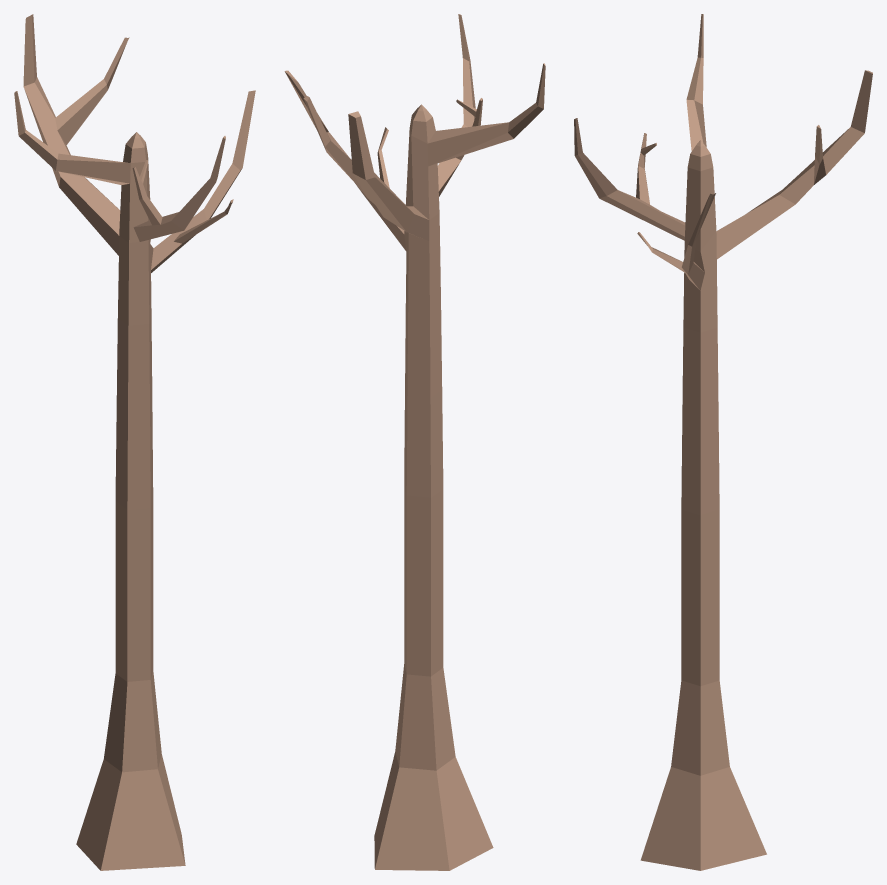
Rendered from fbxtalldeadtree2.fbx.
3 views of the same model, side by side, from view 1: azimuth 30°, elevation 25°; view 2: azimuth 150°, elevation 25°; view 3: azimuth 270°, elevation 25° (orthographic). The views are drawn at different scales.
Visible parts, largest first — view 1: pCylinder44; view 2: pCylinder44; view 3: pCylinder44.
Part boxes in pixels (box(x1,y1,x2,y2)): pCylinder44: box(14, 14, 255, 870); pCylinder44: box(284, 14, 545, 870); pCylinder44: box(574, 14, 872, 870).
Bounding box in the file's own units: 12.25 × 37.31 × 12.96.
